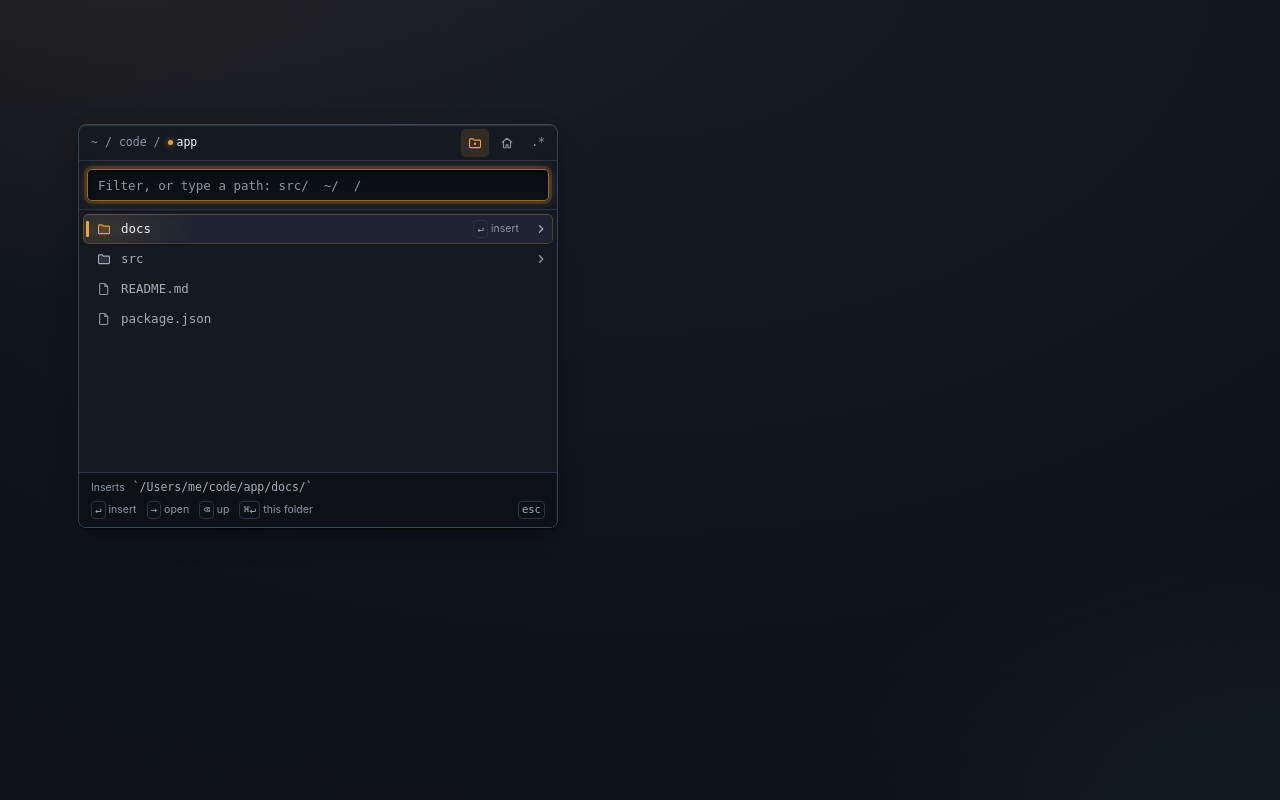
Test: PathPicker › says so when a typed folder does not exist
Type "nowhere/" into the dropdown with test id "path-picker-filter" at (318,185), box left=87, top=169, right=549, bottom=201
Wait 200 ms
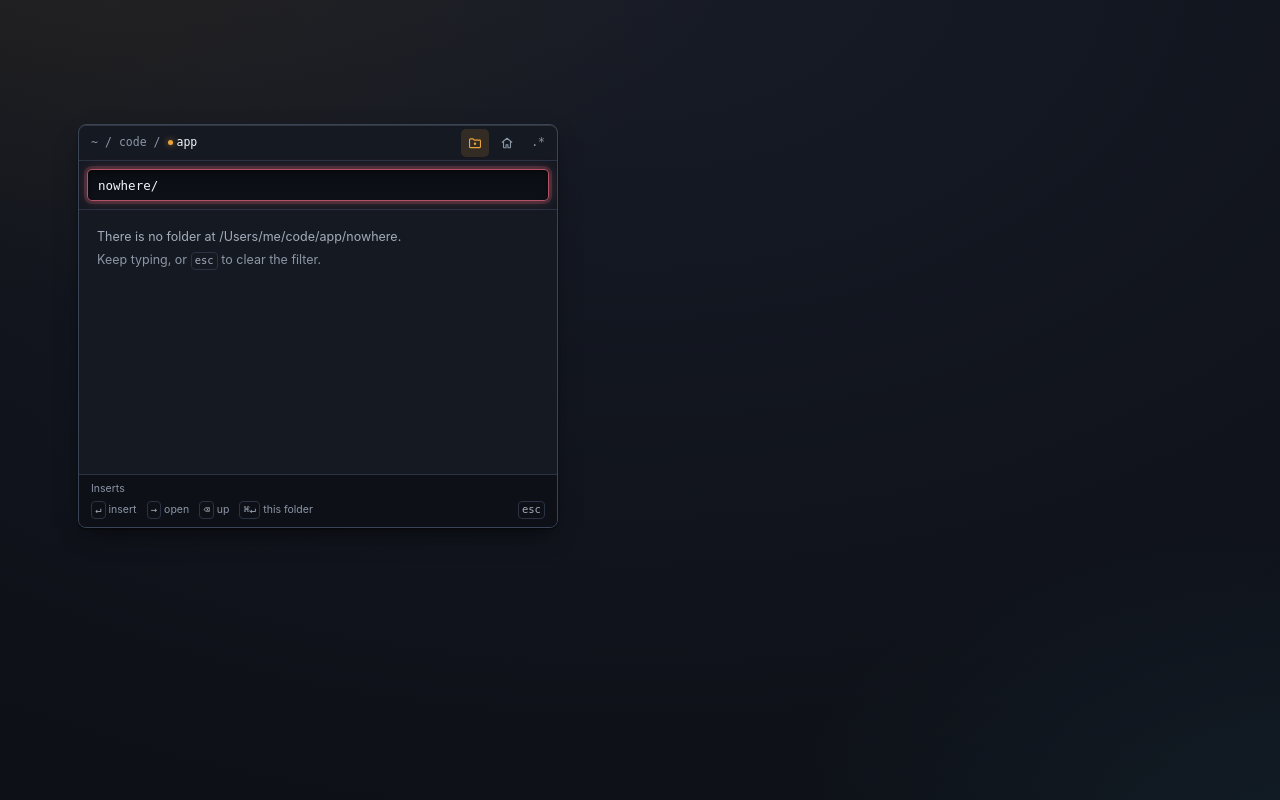
expect the element with test id "path-picker-failure" shows "There is no folder at": met, box left=97, top=229, right=401, bottom=244
